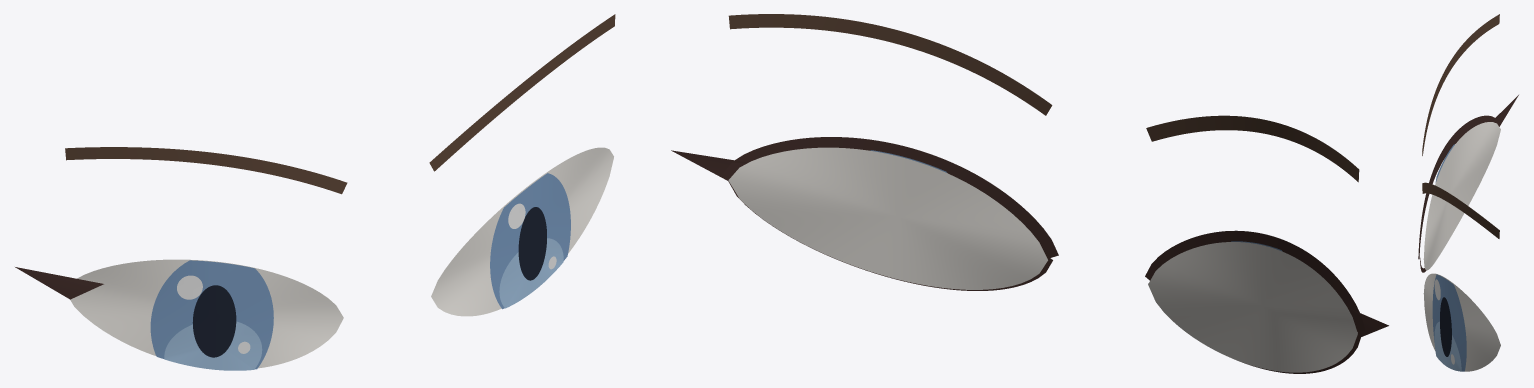
The model's file is female_eyes_ref01_v3.glb.
The picture shows the model from 3 angles, left to right: view 1: azimuth 30°, elevation 25°; view 2: azimuth 150°, elevation 25°; view 3: azimuth 270°, elevation 25°; orthographic projection. The views are drawn at different scales.
Parts seen in each view (by area): view 1: Eye_White_-1, Eye_White_1, Eye_Iris_-1, Eye_Iris_1, Eyebrow_-1, Eye_Iris_Light_-1, Eye_Pupil_-1, Eyebrow_1, Eye_Iris_Light_1, Eye_Pupil_1, Eye_LashWing_-1, Eye_Glint_-1_0; view 2: Eye_White_1, Eye_White_-1, Eyebrow_1, Eye_UpperLid_1, Eyebrow_-1, Eye_UpperLid_-1, Eye_LashWing_1; view 3: Eye_White_-1, Eye_White_1, Eye_Iris_1, Eye_UpperLid_-1, Eyebrow_-1, Eyebrow_1, Eye_Iris_Light_1, Eye_Pupil_1, Eye_LashWing_-1, Eye_Glint_1_0.
Part boxes in pixels (x1=…): Eye_White_-1: x1=70, y1=259, x2=343, y2=368; Eye_White_1: x1=431, y1=147, x2=613, y2=316; Eye_Iris_-1: x1=150, y1=260, x2=273, y2=369; Eye_Iris_1: x1=490, y1=173, x2=570, y2=309; Eyebrow_-1: x1=65, y1=147, x2=347, y2=194; Eye_Iris_Light_-1: x1=164, y1=321, x2=262, y2=370; Eye_Pupil_-1: x1=192, y1=285, x2=236, y2=357; Eyebrow_1: x1=429, y1=14, x2=615, y2=171; Eye_Iris_Light_1: x1=499, y1=238, x2=563, y2=308; Eye_Pupil_1: x1=518, y1=207, x2=546, y2=280; Eye_LashWing_-1: x1=15, y1=267, x2=103, y2=299; Eye_Glint_-1_0: x1=177, y1=275, x2=202, y2=299; Eye_White_1: x1=728, y1=147, x2=1047, y2=289; Eye_White_-1: x1=1148, y1=242, x2=1357, y2=372; Eyebrow_1: x1=728, y1=14, x2=1052, y2=115; Eye_UpperLid_1: x1=723, y1=137, x2=1058, y2=257; Eyebrow_-1: x1=1146, y1=115, x2=1359, y2=182; Eye_UpperLid_-1: x1=1145, y1=230, x2=1365, y2=332; Eye_LashWing_1: x1=671, y1=150, x2=748, y2=180; Eye_White_-1: x1=1423, y1=122, x2=1500, y2=270; Eye_White_1: x1=1423, y1=273, x2=1500, y2=371; Eye_Iris_1: x1=1432, y1=274, x2=1466, y2=371; Eye_UpperLid_-1: x1=1418, y1=115, x2=1499, y2=259; Eyebrow_-1: x1=1422, y1=14, x2=1499, y2=155; Eyebrow_1: x1=1422, y1=182, x2=1499, y2=238; Eye_Iris_Light_1: x1=1434, y1=321, x2=1461, y2=371; Eye_Pupil_1: x1=1440, y1=297, x2=1451, y2=356; Eye_LashWing_-1: x1=1491, y1=95, x2=1518, y2=126; Eye_Glint_1_0: x1=1434, y1=279, x2=1440, y2=300.
Bounding box in the file's own units: 0.418 × 0.1484 × 0.0725.
